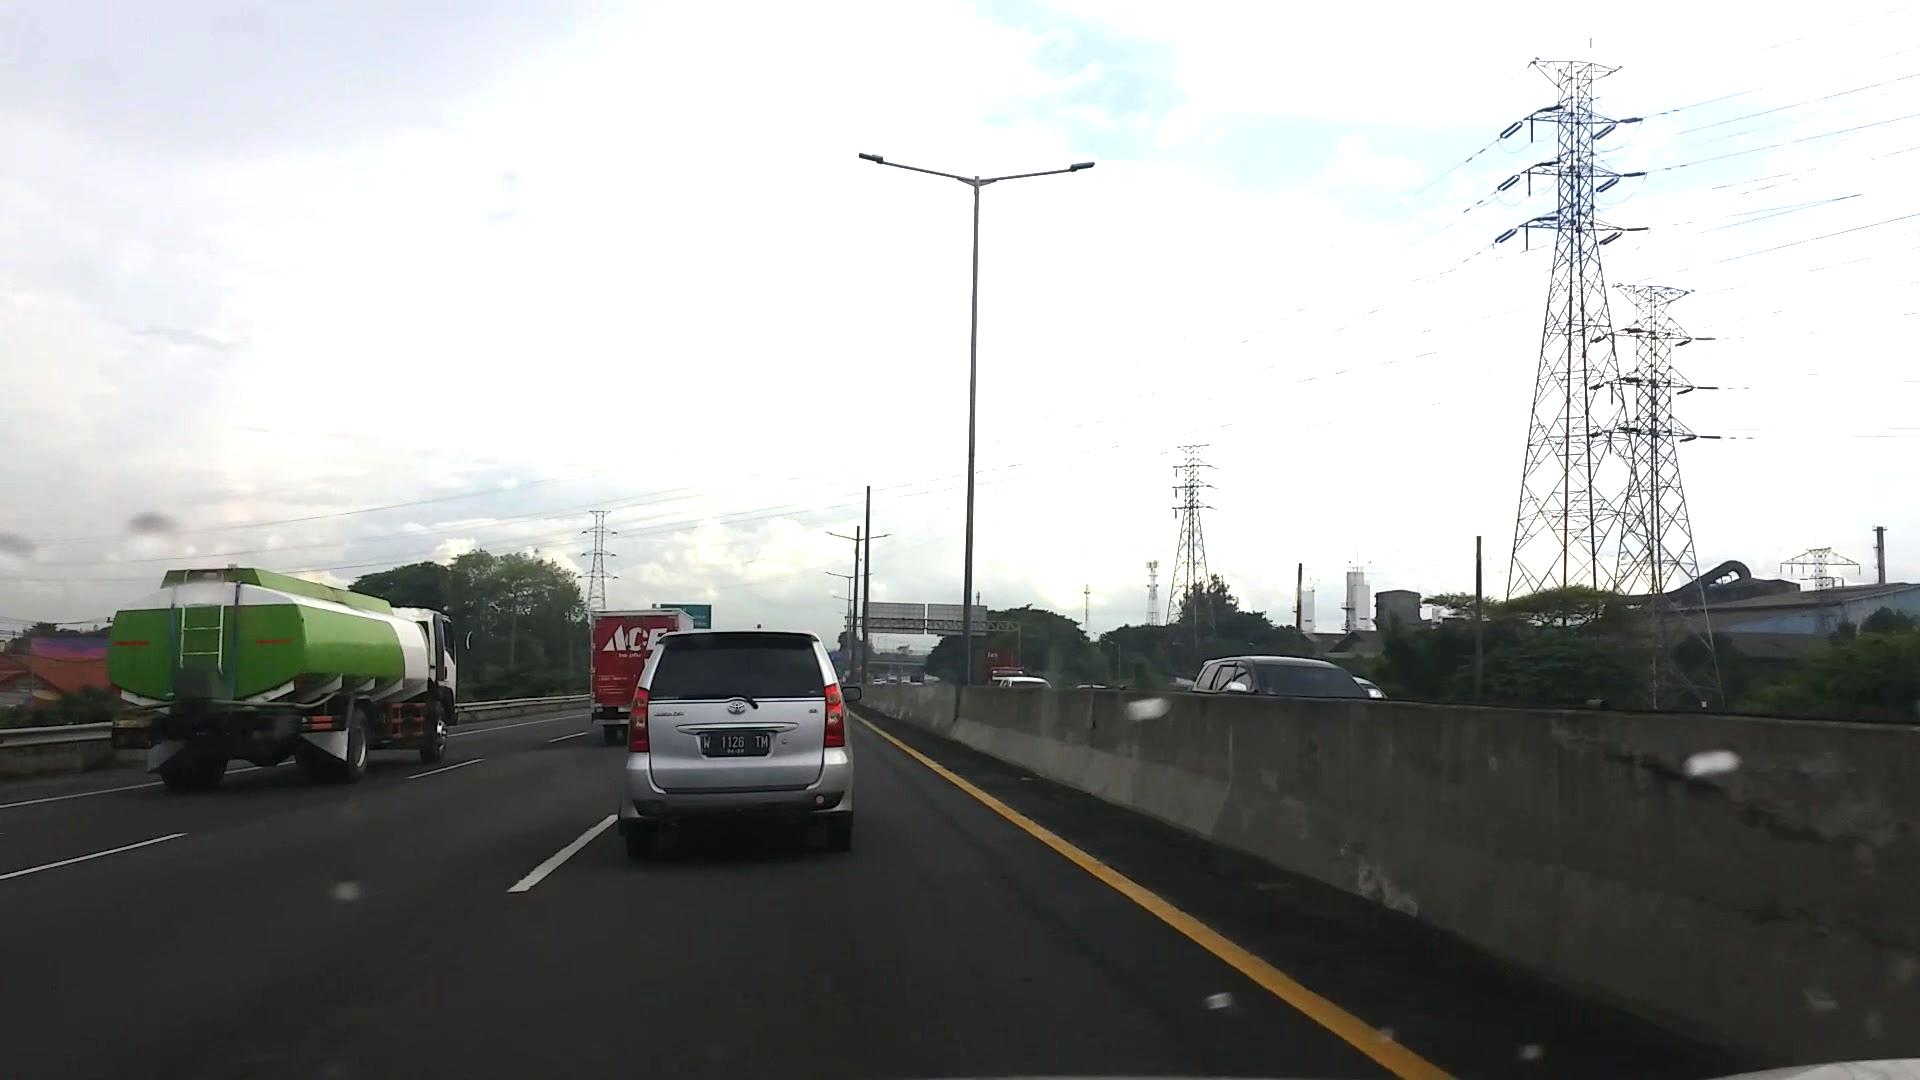plate_positive: (702, 731, 770, 757)
